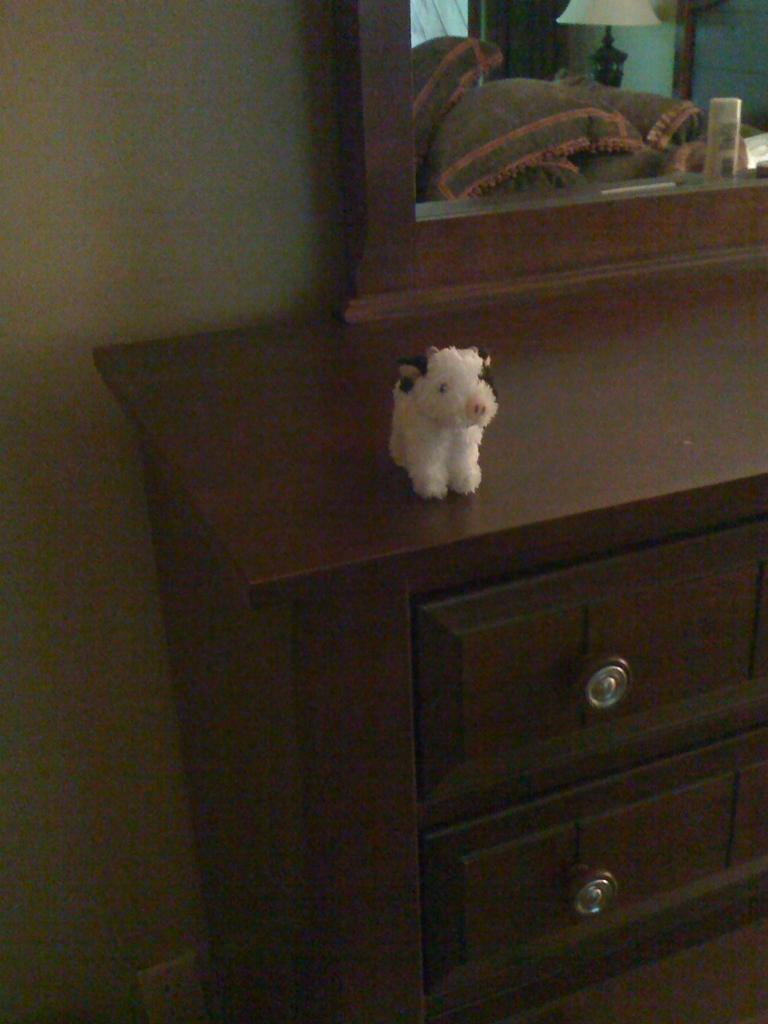cabinet_door: (430, 784, 744, 944), (431, 594, 754, 744)
handle: (565, 640, 633, 725), (568, 863, 610, 926)
